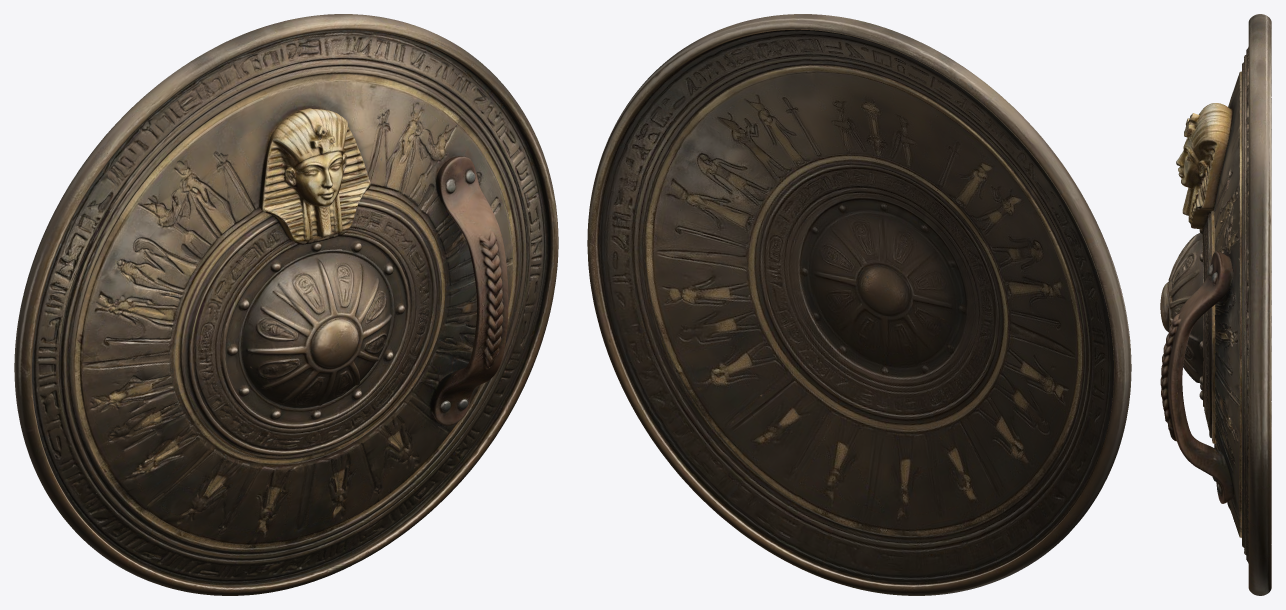
The model's file is Meshy_AI_Egyptian_King_Shield_0310041014_texture.glb.
3 views of the same model, side by side, from view 1: azimuth 30°, elevation 25°; view 2: azimuth 150°, elevation 25°; view 3: azimuth 270°, elevation 25° (orthographic). The views are drawn at different scales.
Bounding box in the file's own units: 1.9 × 1.9 × 0.3623.
Materials: 1 (1 with a texture image).
